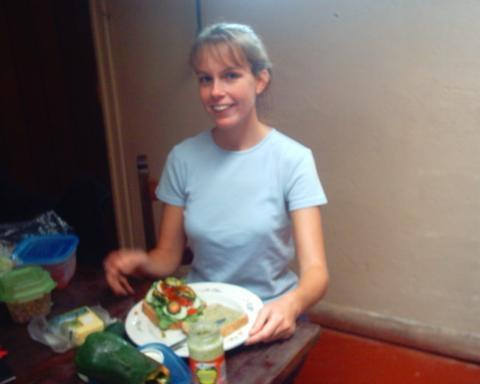lettuce: (152, 300, 176, 330), (182, 312, 203, 322), (152, 281, 160, 289)
